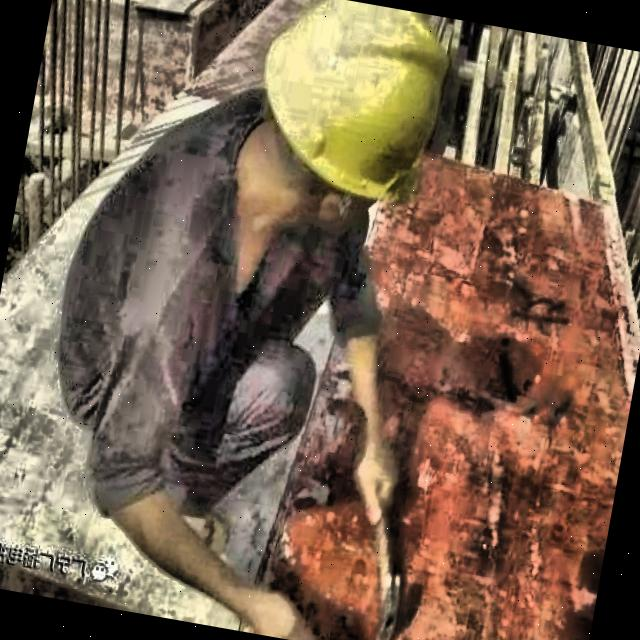helmet: (209, 0, 476, 272)
